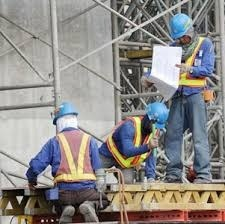helmet: (51, 103, 82, 125), (167, 13, 193, 39), (146, 101, 168, 131)
person with full safety: (162, 14, 215, 182), (37, 102, 105, 209), (104, 102, 169, 180)
safety vest: (51, 131, 95, 184), (113, 113, 153, 168), (175, 39, 208, 88)
